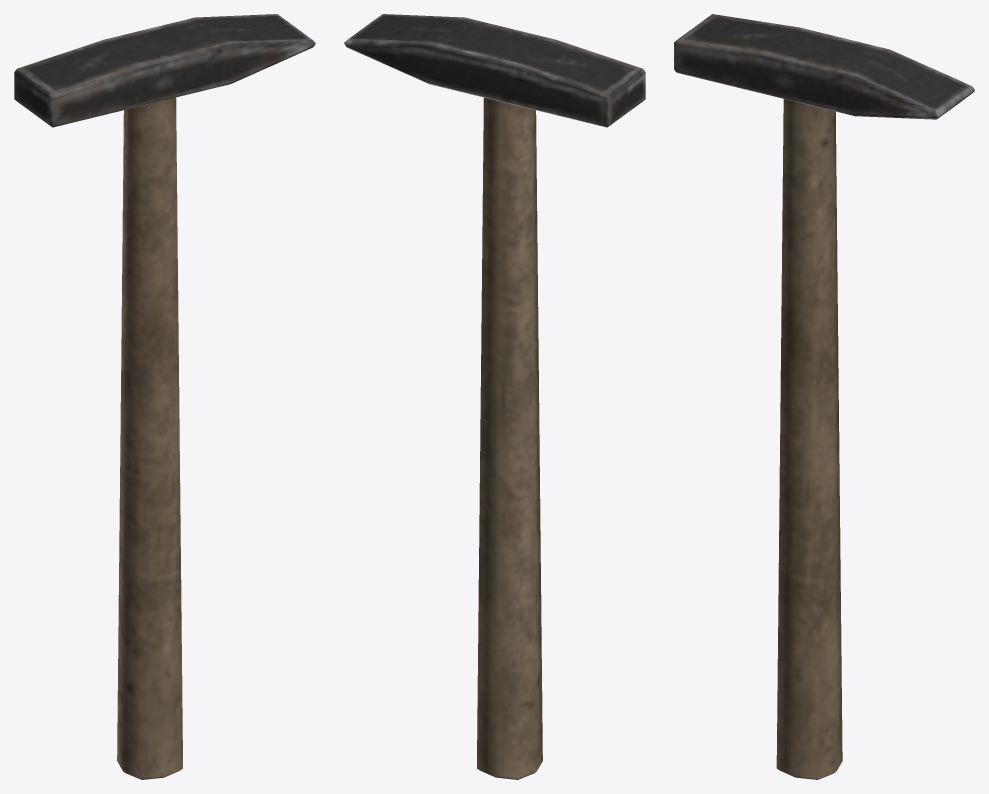
Rendered from hammer.glb.
3 views of the same model, side by side, from view 1: azimuth 30°, elevation 25°; view 2: azimuth 150°, elevation 25°; view 3: azimuth 330°, elevation 25° (orthographic).
Visible parts, largest first — view 1: Hammer01; view 2: Hammer01; view 3: Hammer01.
Boxes of the visible parts, box(x1,y1,x2,y2) form: Hammer01: box(14, 14, 315, 779); Hammer01: box(344, 14, 645, 779); Hammer01: box(674, 14, 974, 779).
Bounding box in the file's own units: 0.189 × 0.4905 × 0.0478.
Materials: 1 (1 with a texture image).
